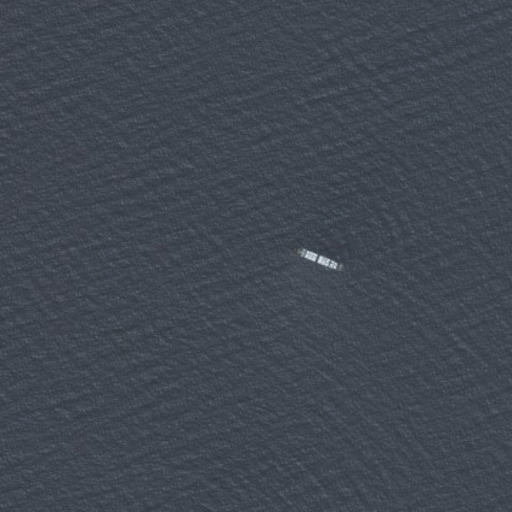ship: (294, 245, 342, 273)
